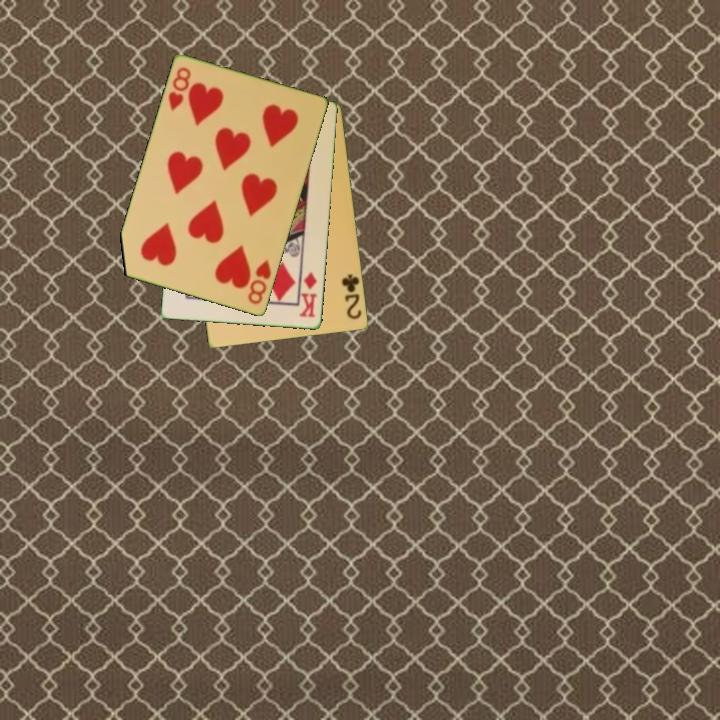2c: (338, 271, 365, 322)
8h: (244, 256, 274, 307), (165, 64, 194, 114)
Kd: (296, 268, 320, 320)
